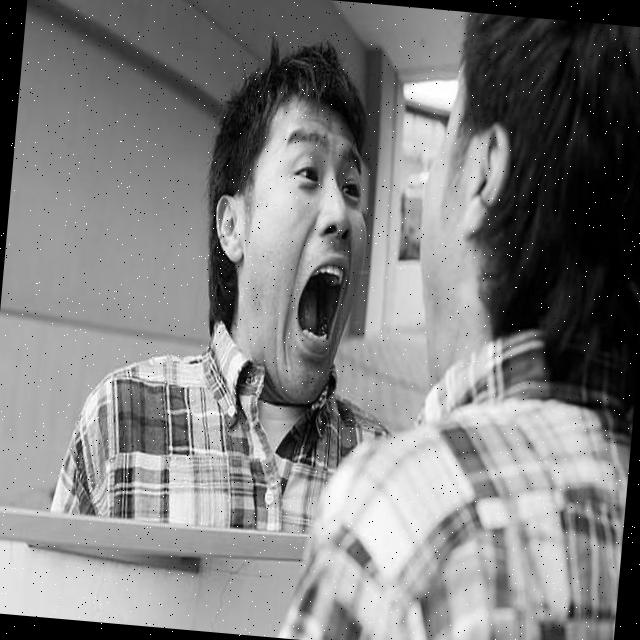Fear: (243, 96, 374, 408)
